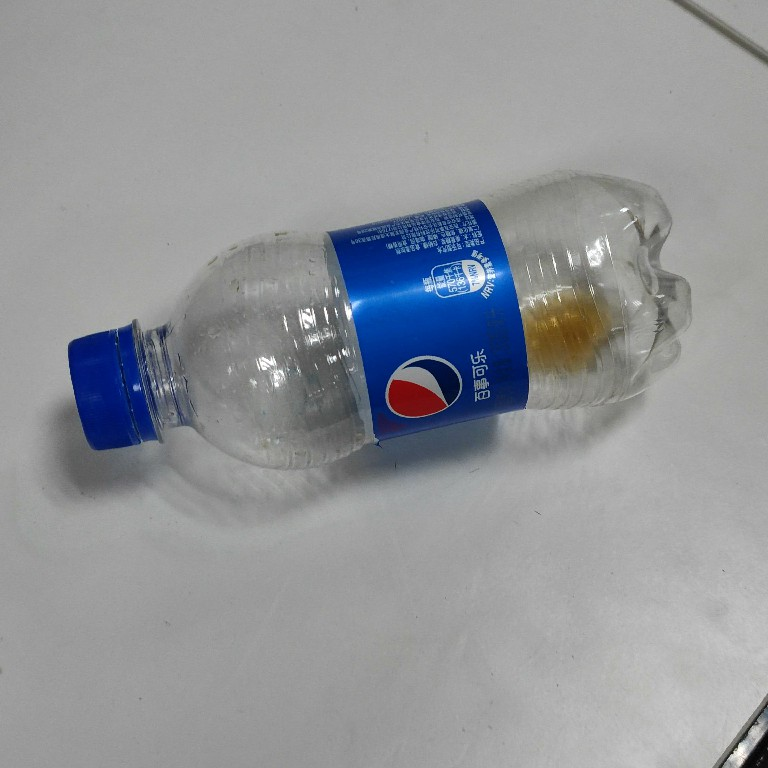bottle: (64, 164, 703, 487)
